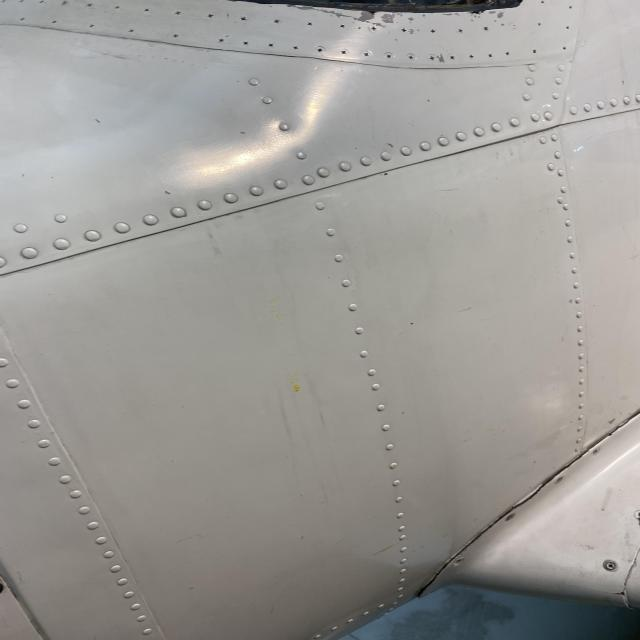Crack: (404, 550, 454, 604), (508, 481, 557, 514), (606, 588, 636, 600)
Missing_Fastener: (452, 556, 467, 567), (554, 476, 566, 484)
